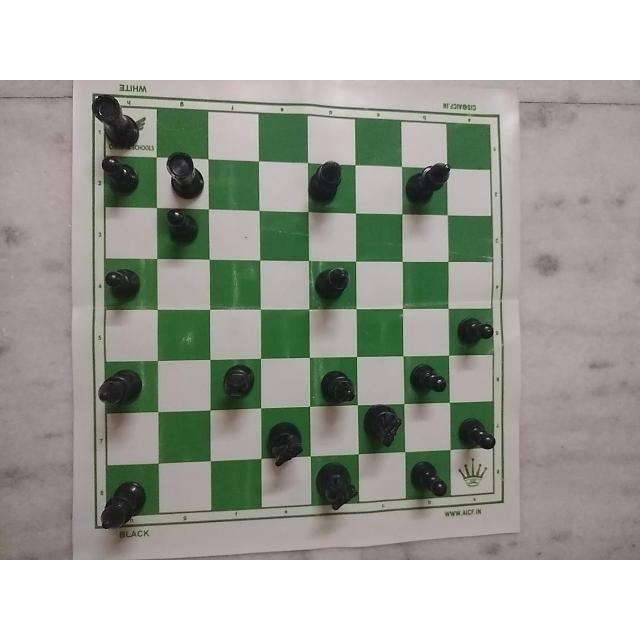black-bishop: (97, 474, 153, 540), (96, 365, 150, 417), (212, 357, 260, 406), (406, 160, 453, 208), (306, 157, 348, 209), (317, 365, 358, 407), (314, 260, 354, 300)
black-knight: (314, 455, 362, 516), (362, 405, 409, 448), (262, 417, 303, 464)
black-pawn: (410, 452, 452, 500), (95, 155, 144, 195), (99, 268, 153, 304), (161, 208, 207, 248), (460, 411, 500, 457), (407, 363, 450, 401), (459, 315, 499, 351)
black-rook: (89, 86, 144, 154), (163, 151, 208, 203)
